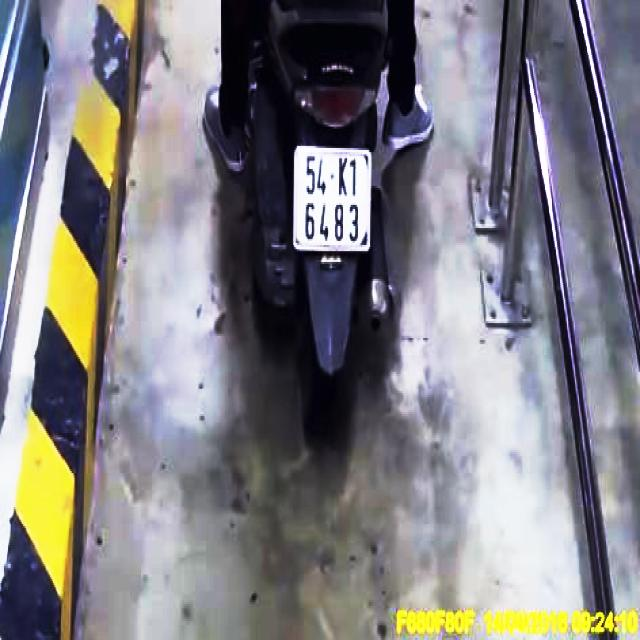license_plate: (293, 147, 373, 254)
